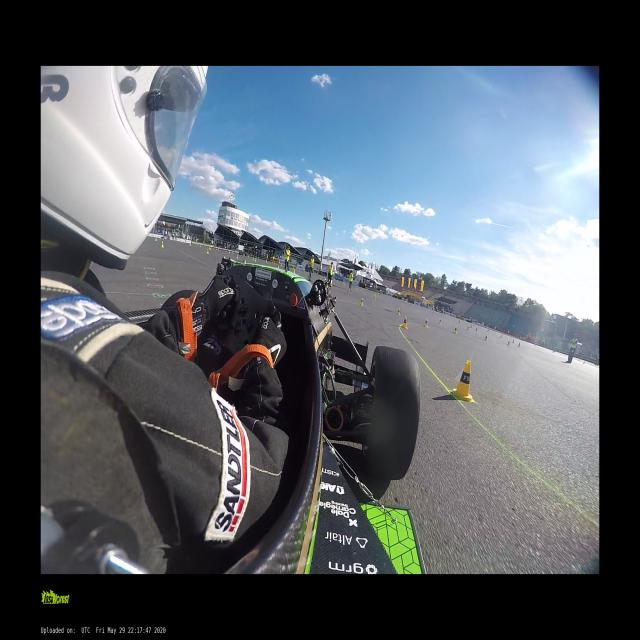yellow_cone: (451, 360, 475, 402), (401, 316, 408, 329), (359, 297, 364, 306), (424, 319, 428, 328), (452, 327, 457, 334), (396, 308, 401, 315), (506, 340, 510, 346), (483, 335, 487, 341), (161, 240, 164, 248), (438, 319, 441, 325), (466, 326, 469, 331), (373, 295, 376, 300), (517, 342, 520, 346), (511, 339, 514, 343), (206, 249, 208, 254), (476, 328, 478, 332), (583, 360, 585, 364), (470, 325, 472, 328)
